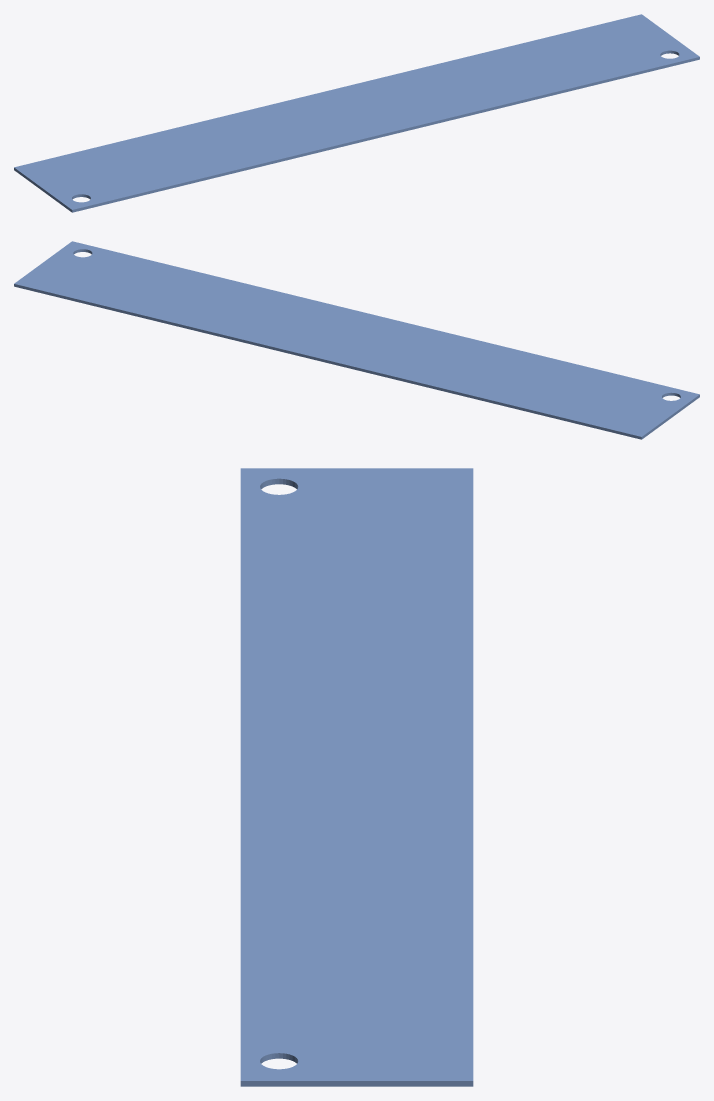
File: projectHome.glb
3 renders of one model, top to bottom at view 1: azimuth 30°, elevation 25°; view 2: azimuth 150°, elevation 25°; view 3: azimuth 270°, elevation 25°, orthographic. The views are drawn at different scales.
Parts seen in each view (by area): view 1: Cube; view 2: Cube; view 3: Cube.
Part boxes in pixels (<box>): Cube: <box>14,14,699,212</box>; Cube: <box>14,241,699,439</box>; Cube: <box>240,468,473,1086</box>.
Bounding box in the file's own units: 68.09 × 0.2873 × 10.94.
